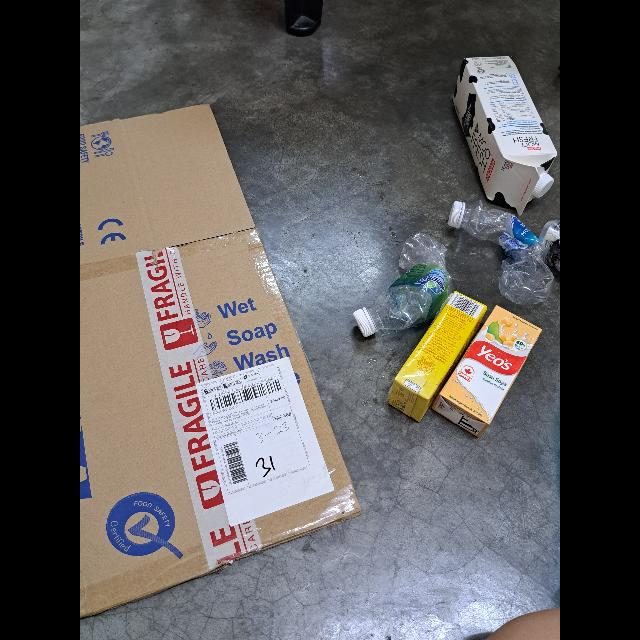caixinha: (452, 56, 558, 214), (434, 306, 542, 436), (388, 292, 487, 422)
garrafa plástica: (450, 197, 560, 305), (352, 234, 452, 336), (449, 200, 467, 230)
papelão: (80, 102, 362, 618)
tampa plástica: (352, 307, 378, 338), (534, 172, 552, 198)
